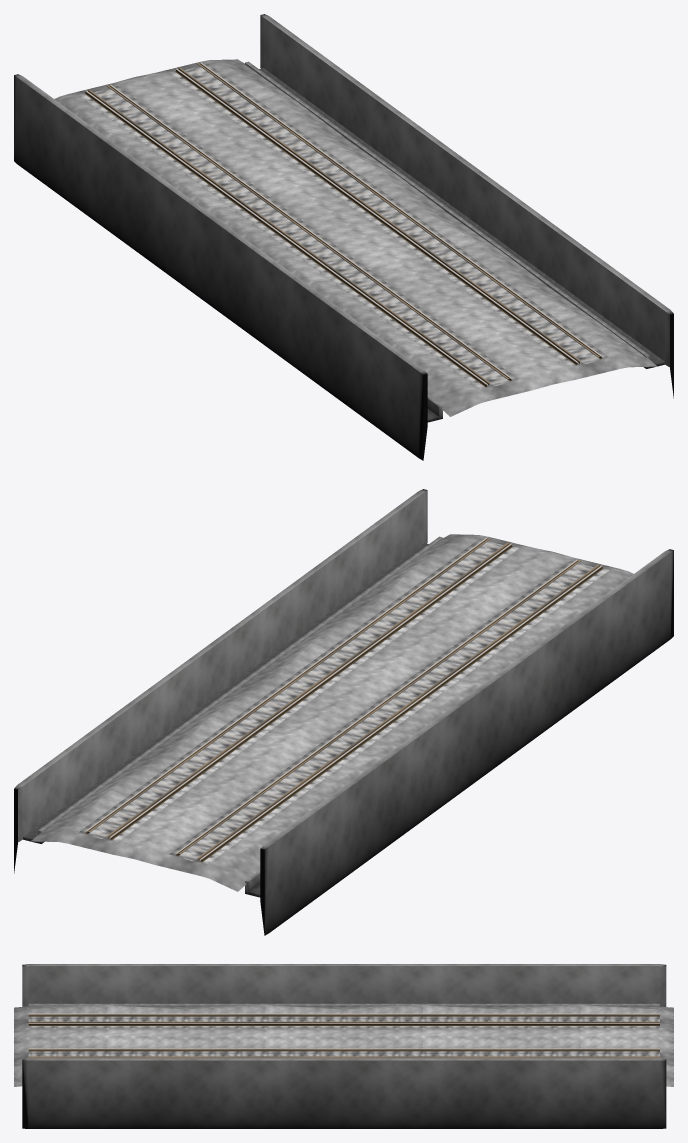
The model's file is NK_2RAIL_100_WALL.glb.
3 views of the same model, one above another, from view 1: azimuth 30°, elevation 25°; view 2: azimuth 150°, elevation 25°; view 3: azimuth 270°, elevation 25° (orthographic). The views are drawn at different scales.
Parts seen in each view (by area): view 1: Jari_All, R000_RG_R, R000_RG_L; view 2: Jari_All, R000_RG_R, R000_RG_L; view 3: Jari_All, R000_RG_L, R000_RG_R.
Boxes of the visible parts, box(x1,y1,x2,y2) form: Jari_All: box(14, 14, 673, 460); R000_RG_R: box(88, 67, 580, 385); R000_RG_L: box(106, 63, 599, 379); Jari_All: box(14, 489, 673, 935); R000_RG_R: box(106, 542, 599, 860); R000_RG_L: box(88, 538, 581, 855); Jari_All: box(14, 964, 673, 1128); R000_RG_L: box(28, 1021, 659, 1057); R000_RG_R: box(28, 1014, 659, 1050).
Bounding box in the file's own units: 36.23 × 11.93 × 105.
8 materials, 7 textured.
